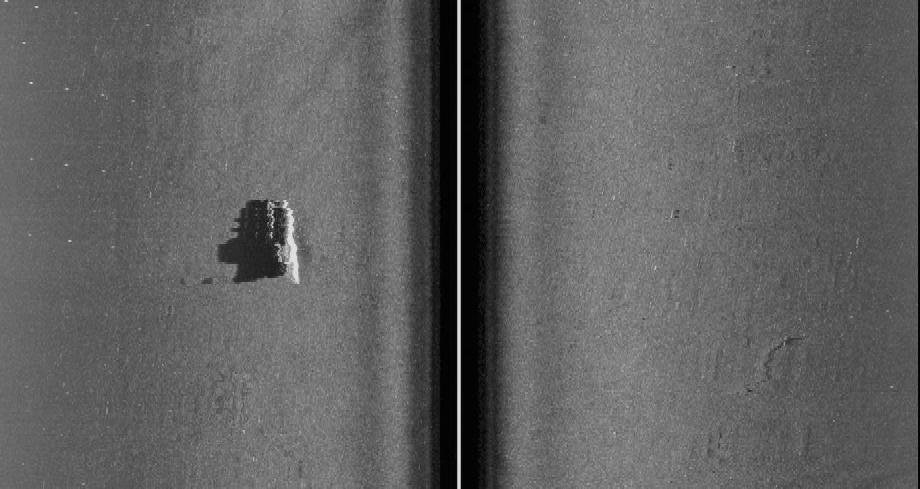ship: (263, 199, 301, 284)
